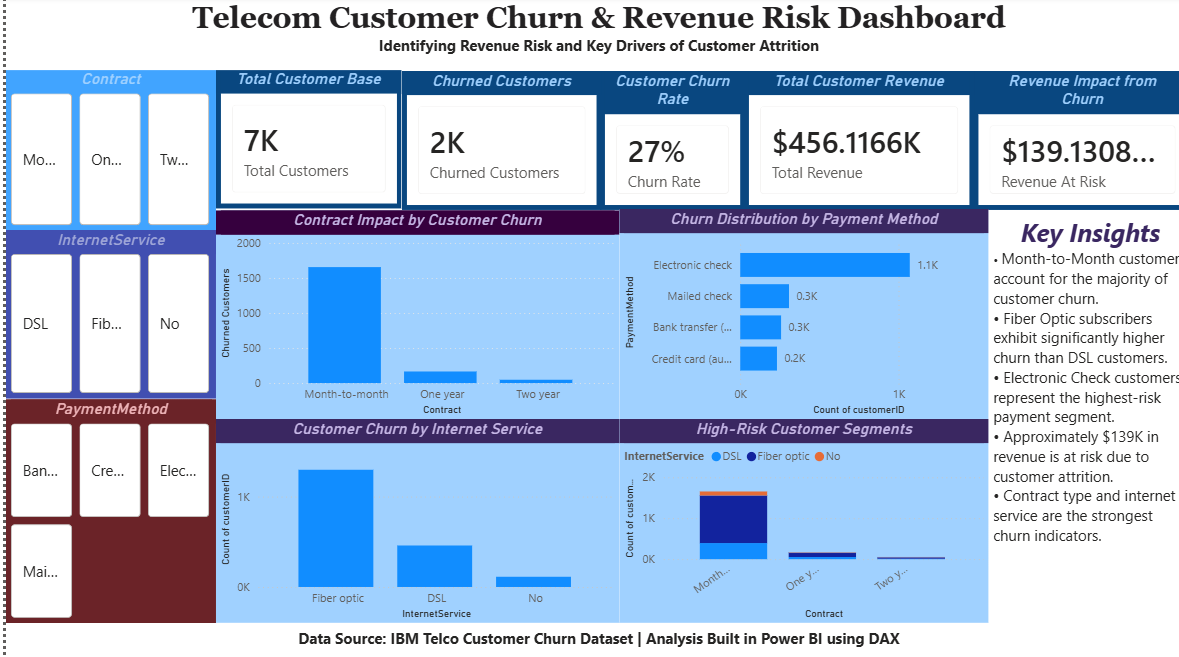

Layout of this report page (visuals, bound fields, positions):
{"tool":"powerbi","page":{"name":"Executive Dashboard","canvas":[1280,720],"ordinal":0},"visuals":[{"type":"cardVisual","title":"Customer Churn Rate","fields":{"Data":["WA_Fn-UseC_-Telco-Customer-Churn.Churn Rate"]},"box":[641.7,81.7,156.7,150],"z":0},{"type":"cardVisual","title":"Revenue Impact from Churn","fields":{"Data":["WA_Fn-UseC_-Telco-Customer-Churn.Revenue At Risk"]},"box":[1045,81.7,235,150],"z":1000},{"type":"cardVisual","title":"Total Customer Revenue","fields":{"Data":["WA_Fn-UseC_-Telco-Customer-Churn.Total Revenue"]},"box":[796.7,81.7,248.3,150],"z":2000},{"type":"cardVisual","title":"Churned Customers ","fields":{"Data":["WA_Fn-UseC_-Telco-Customer-Churn.Churned Customers"]},"box":[426.7,81.7,215,150],"z":3000},{"type":"cardVisual","title":"Total Customer Base","fields":{"Data":["WA_Fn-UseC_-Telco-Customer-Churn.Total Customers"]},"box":[226.7,80,200,150],"z":4000},{"type":"clusteredColumnChart","title":"Contract Impact by Customer Churn","fields":{"Category":["WA_Fn-UseC_-Telco-Customer-Churn.Contract"],"Y":["WA_Fn-UseC_-Telco-Customer-Churn.Churned Customers"]},"box":[226.7,231.7,435,225],"z":5000},{"type":"clusteredBarChart","title":"Churn Distribution by Payment Method","fields":{"Category":["WA_Fn-UseC_-Telco-Customer-Churn.PaymentMethod"],"Y":["CountNonNull(WA_Fn-UseC_-Telco-Customer-Churn.customerID)"]},"box":[661.7,230,398.3,226.7],"z":6000},{"type":"clusteredColumnChart","title":"Customer Churn by Internet Service","fields":{"Category":["WA_Fn-UseC_-Telco-Customer-Churn.InternetService"],"Y":["CountNonNull(WA_Fn-UseC_-Telco-Customer-Churn.customerID)"]},"box":[226.7,456.7,435,220],"z":7000},{"type":"columnChart","title":"High-Risk Customer Segments","fields":{"Category":["WA_Fn-UseC_-Telco-Customer-Churn.Contract"],"Series":["WA_Fn-UseC_-Telco-Customer-Churn.InternetService"],"Y":["CountNonNull(WA_Fn-UseC_-Telco-Customer-Churn.customerID)"]},"box":[661.7,456.7,398.3,220],"z":8000},{"type":"advancedSlicerVisual","fields":{"Values":["WA_Fn-UseC_-Telco-Customer-Churn.Contract"]},"box":[0,80,226.7,173.3],"z":9000},{"type":"advancedSlicerVisual","fields":{"Values":["WA_Fn-UseC_-Telco-Customer-Churn.InternetService"]},"box":[0,253.3,226.7,181.7],"z":10000},{"type":"advancedSlicerVisual","fields":{"Values":["WA_Fn-UseC_-Telco-Customer-Churn.PaymentMethod"]},"box":[0,435,226.7,241.7],"z":11000},{"type":"textbox","box":[0,0,1280,80],"z":12000},{"type":"textbox","box":[1060,231.7,220,445],"z":12001},{"type":"textbox","box":[0,676.7,1280,43.3],"z":12002}]}

Visuals, with their boxes in screenshot pixels (x1, y1, x2, y2), scaled from the page's 1280x720 canvas onto the 1179x657 screenshot:
"Customer Churn Rate" cardVisual: region(591, 75, 735, 211)
"Revenue Impact from Churn" cardVisual: region(963, 75, 1178, 211)
"Total Customer Revenue" cardVisual: region(734, 75, 963, 211)
"Churned Customers " cardVisual: region(393, 75, 591, 211)
"Total Customer Base" cardVisual: region(209, 73, 393, 210)
"Contract Impact by Customer Churn" clusteredColumnChart: region(209, 211, 609, 417)
"Churn Distribution by Payment Method" clusteredBarChart: region(609, 210, 976, 417)
"Customer Churn by Internet Service" clusteredColumnChart: region(209, 417, 609, 617)
"High-Risk Customer Segments" columnChart: region(609, 417, 976, 617)
advancedSlicerVisual - WA_Fn-UseC_-Telco-Customer-Churn.Contract: region(0, 73, 209, 231)
advancedSlicerVisual - WA_Fn-UseC_-Telco-Customer-Churn.InternetService: region(0, 231, 209, 397)
advancedSlicerVisual - WA_Fn-UseC_-Telco-Customer-Churn.PaymentMethod: region(0, 397, 209, 617)
textbox: region(0, 0, 1178, 73)
textbox: region(976, 211, 1178, 617)
textbox: region(0, 617, 1178, 656)
